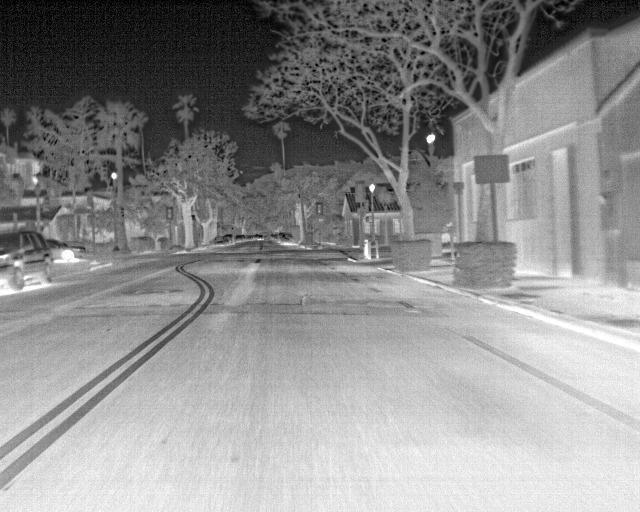bicycle: (0, 229, 53, 289), (44, 238, 73, 261), (208, 238, 228, 250), (276, 232, 294, 245)
